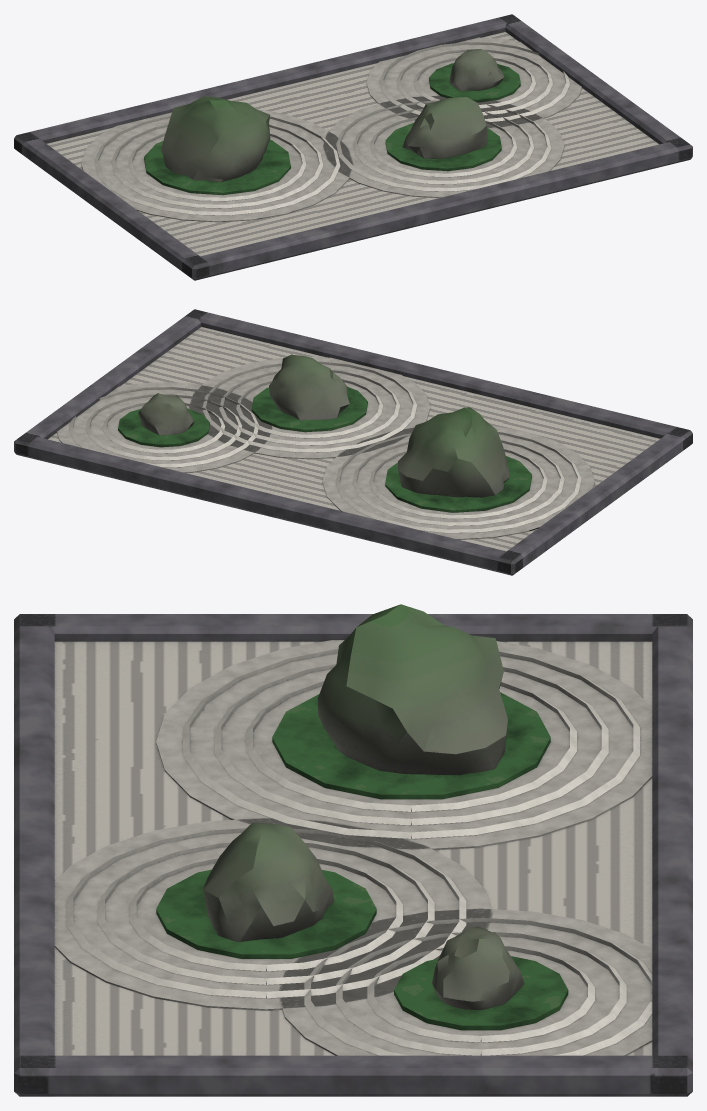
File: zen_garden.fbx
3 renders of one model, top to bottom at view 1: azimuth 30°, elevation 25°; view 2: azimuth 150°, elevation 25°; view 3: azimuth 270°, elevation 25°, orthographic. The views are drawn at different scales.
Parts seen in each view (by area): view 1: zen_garden; view 2: zen_garden; view 3: zen_garden.
Part boxes in pixels (<box>): zen_garden: <box>14,14,692,280</box>; zen_garden: <box>14,309,692,575</box>; zen_garden: <box>14,604,692,1096</box>.
Bounding box in the file's own units: 1870 × 277 × 1170.
Materials: 1 (1 with a texture image).
